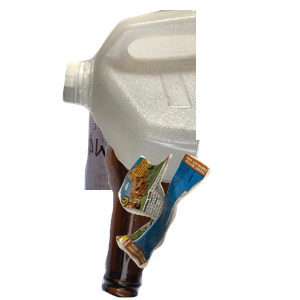glass: (99, 140, 300, 300)
metal: (82, 66, 270, 246)
plastic: (60, 10, 300, 190)
trash: (114, 151, 300, 300)
